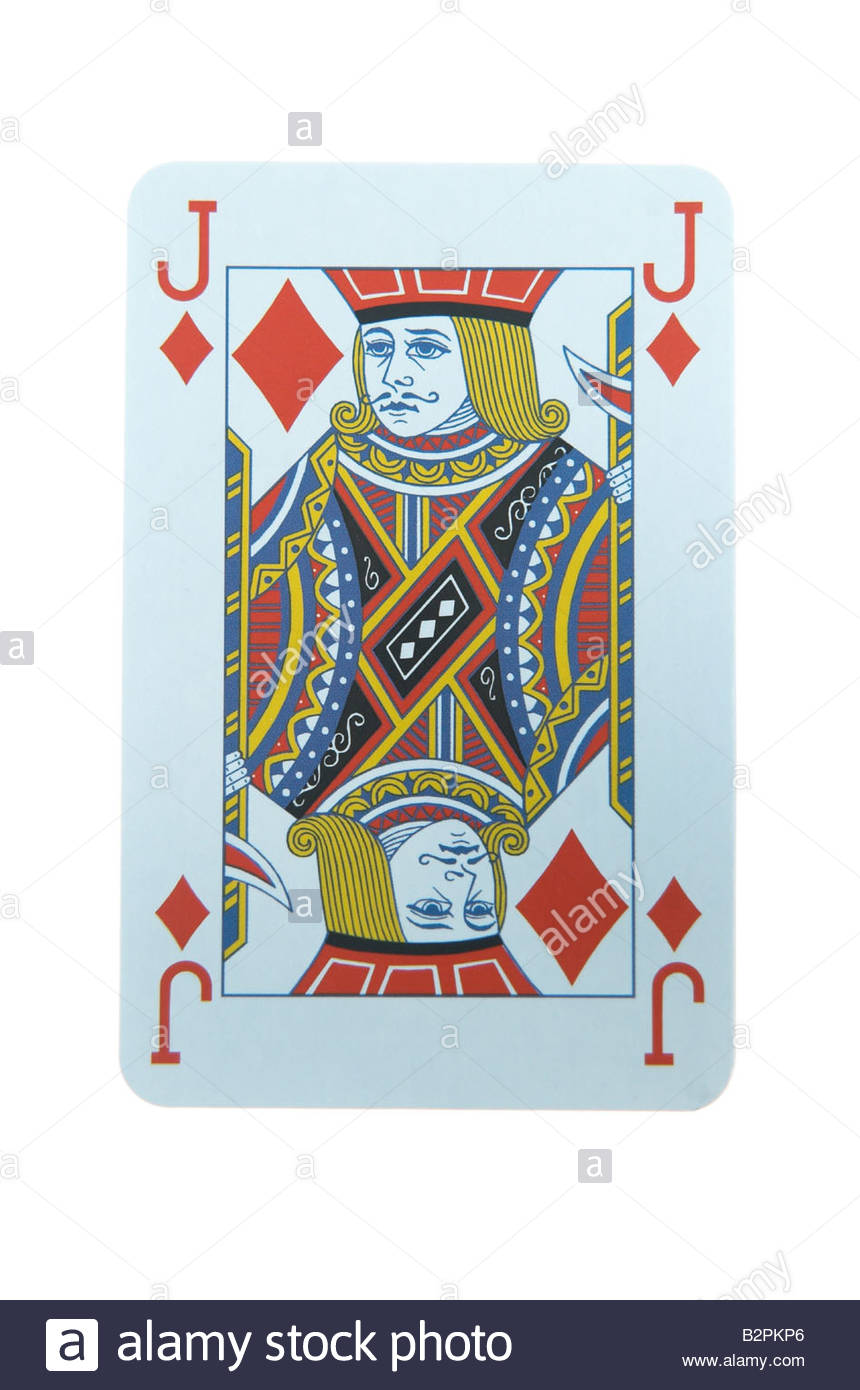jack of diamonds: (130, 162, 732, 1099)
